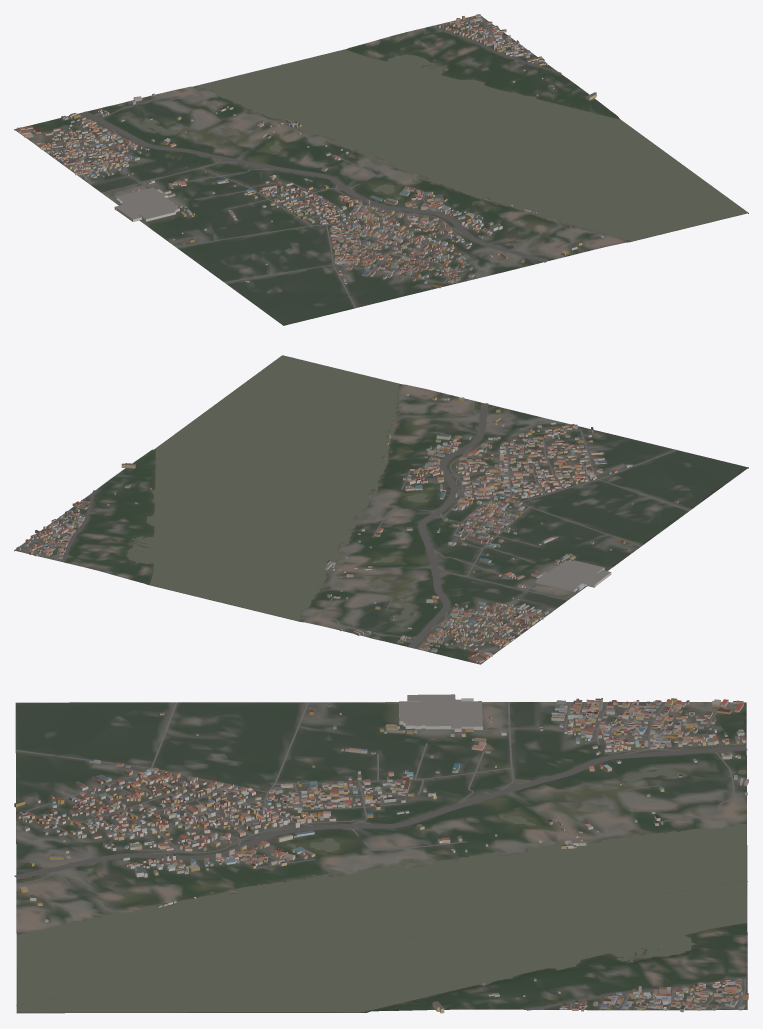
3 renders of one model, top to bottom at view 1: azimuth 30°, elevation 25°; view 2: azimuth 150°, elevation 25°; view 3: azimuth 270°, elevation 25°, orthographic. The views are drawn at different scales.
Parts seen in each view (by area): view 1: ground, water, buildings, roads; view 2: ground, water, buildings, roads; view 3: ground, water, buildings, roads.
Part boxes in pixels (<box>): ground: <box>14,15,748,325</box>; water: <box>116,49,747,241</box>; buildings: <box>17,14,603,288</box>; roads: <box>15,16,561,308</box>; ground: <box>14,361,748,664</box>; water: <box>126,355,455,639</box>; buildings: <box>16,394,678,663</box>; roads: <box>16,400,689,664</box>; ground: <box>15,702,747,1013</box>; water: <box>16,768,747,1012</box>; buildings: <box>14,694,748,1013</box>; roads: <box>14,702,747,1010</box>.
Size of the model in its own units: 1436 by 23.53 by 1409.
